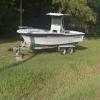Boat: (13, 19, 95, 60)
